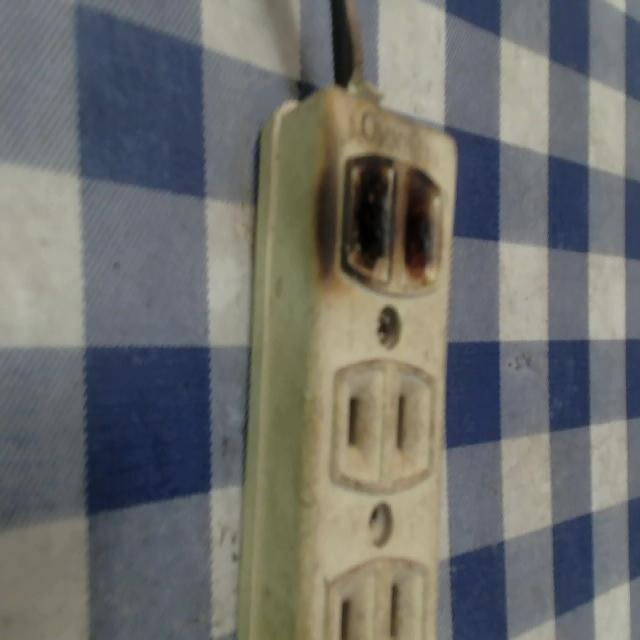-: (329, 136, 452, 299)
